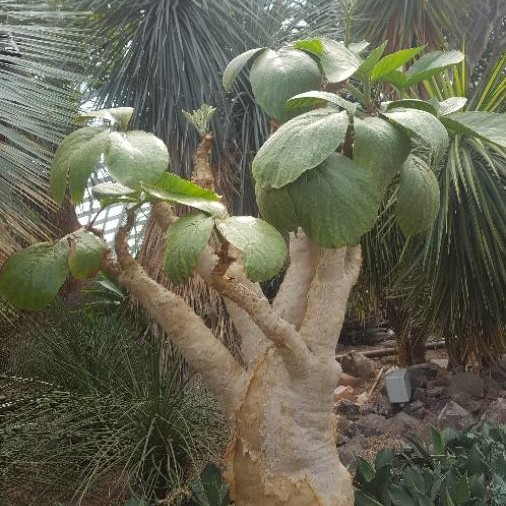obstacle: (59, 34, 476, 291)
